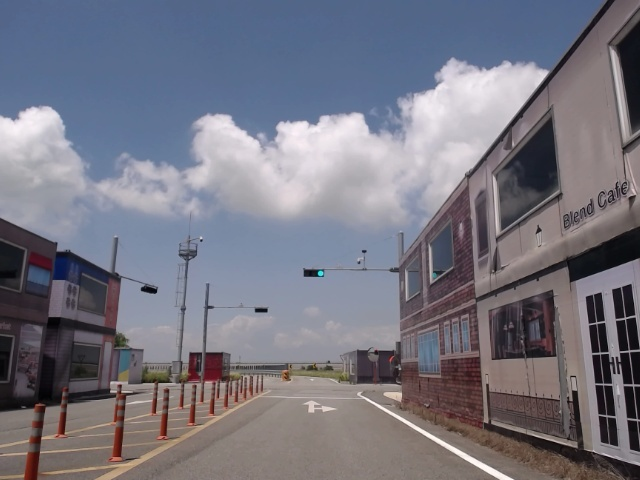green_3: (304, 269, 325, 277)
